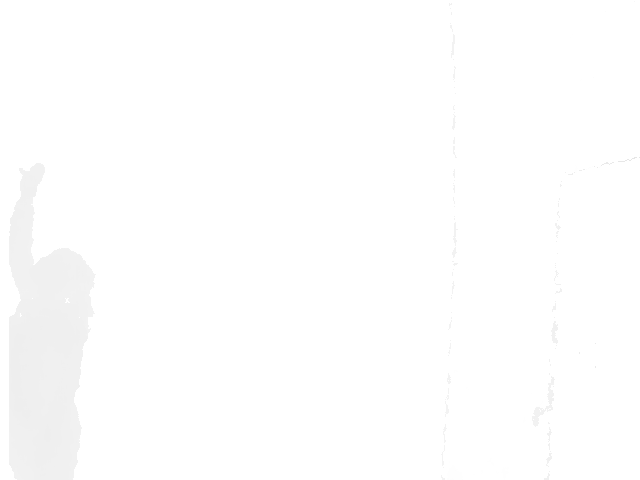hand: (17, 162, 47, 197)
head: (32, 248, 94, 320)
person: (7, 162, 98, 479)
